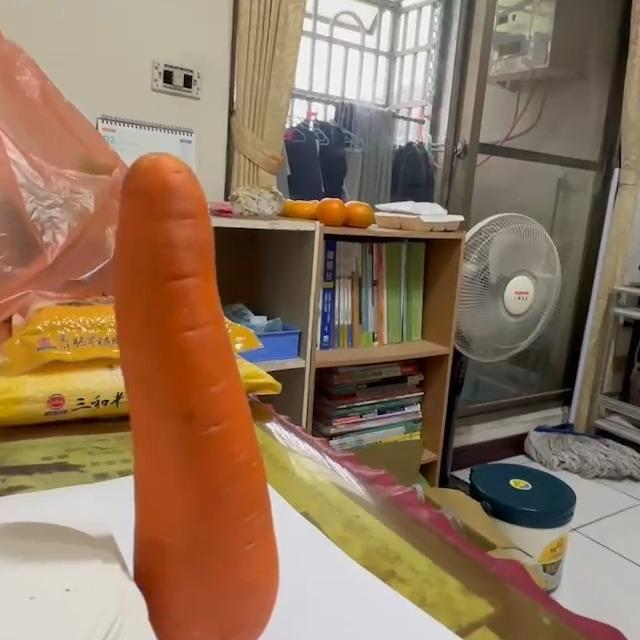carrot: (119, 154, 282, 640)
